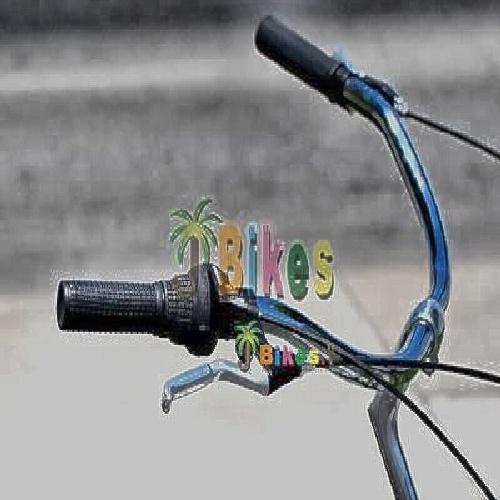bicycle: (66, 28, 490, 482)
